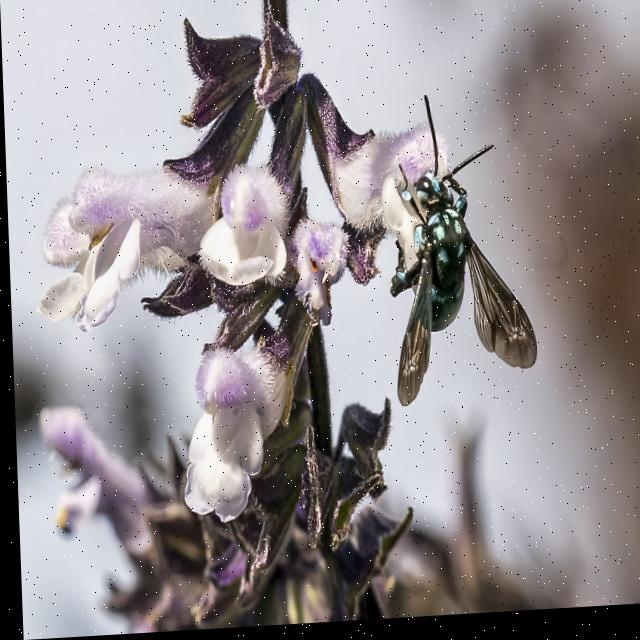Xylocopa: (372, 89, 537, 425)
